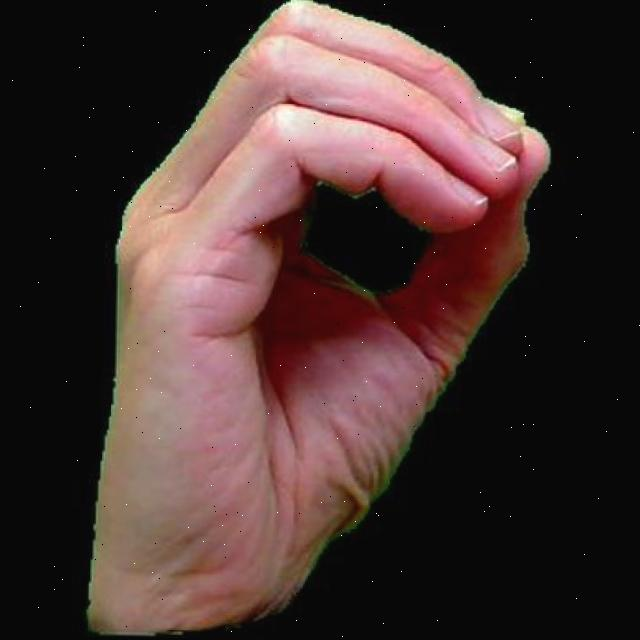o: (68, 0, 567, 640)
